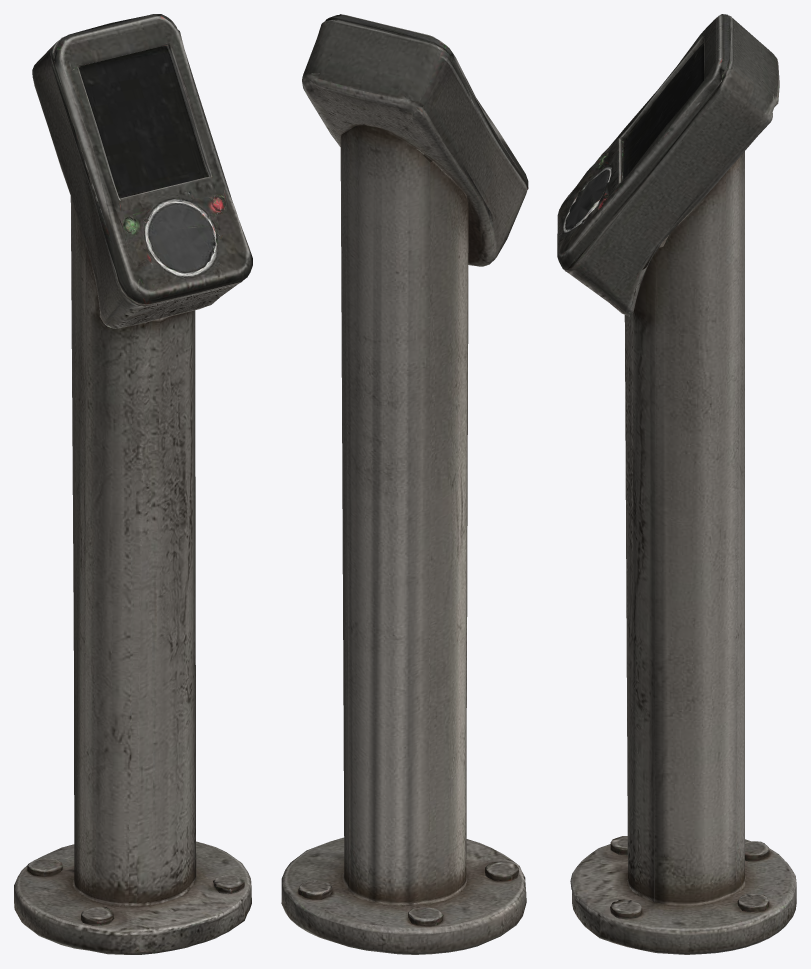
Rendered from p7-fare-validator-stand-t25.glb.
The picture shows the model from 3 angles, left to right: view 1: azimuth 30°, elevation 25°; view 2: azimuth 150°, elevation 25°; view 3: azimuth 270°, elevation 25°; orthographic projection. The views are drawn at different scales.
Parts seen in each view (by area): view 1: p7-fare-validator-stand-t25; view 2: p7-fare-validator-stand-t25; view 3: p7-fare-validator-stand-t25.
Part boxes in pixels (left/top/right/bottom): p7-fare-validator-stand-t25: left=14, top=14, right=252, bottom=954; p7-fare-validator-stand-t25: left=281, top=14, right=528, bottom=954; p7-fare-validator-stand-t25: left=557, top=14, right=796, bottom=954.
Bounding box in the file's own units: 0.3 × 1.2 × 0.3.
Materials: 1 (1 with a texture image).
